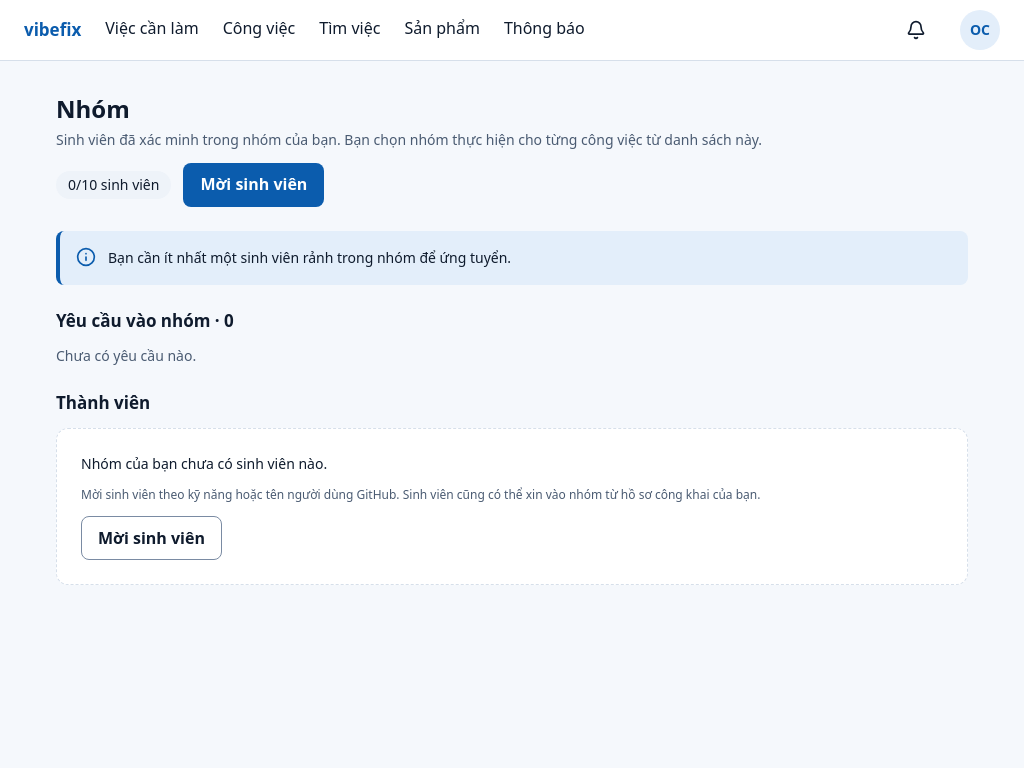
Test: MEN-6, the Mentor's Team (FR-6, AD-37) › searches Students in the invite Sheet and invites one
Click the button "Mời sinh viên" next to "0/10 sinh viên" at (254, 185), box [183,163,324,207]
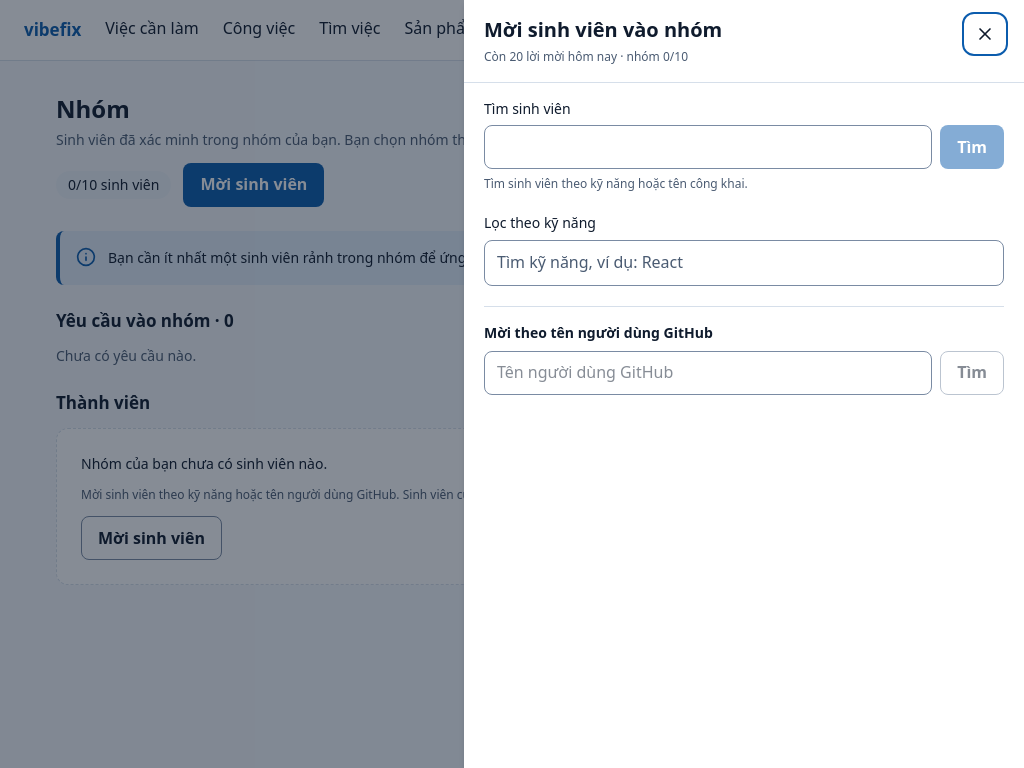
Expected: the 1st button "Tìm" is disabled, [940,125,1004,169]
Type "supabase" into the search field labelled "Tìm sinh viên" at (708, 147), box [484,125,932,169]
Then press Enter
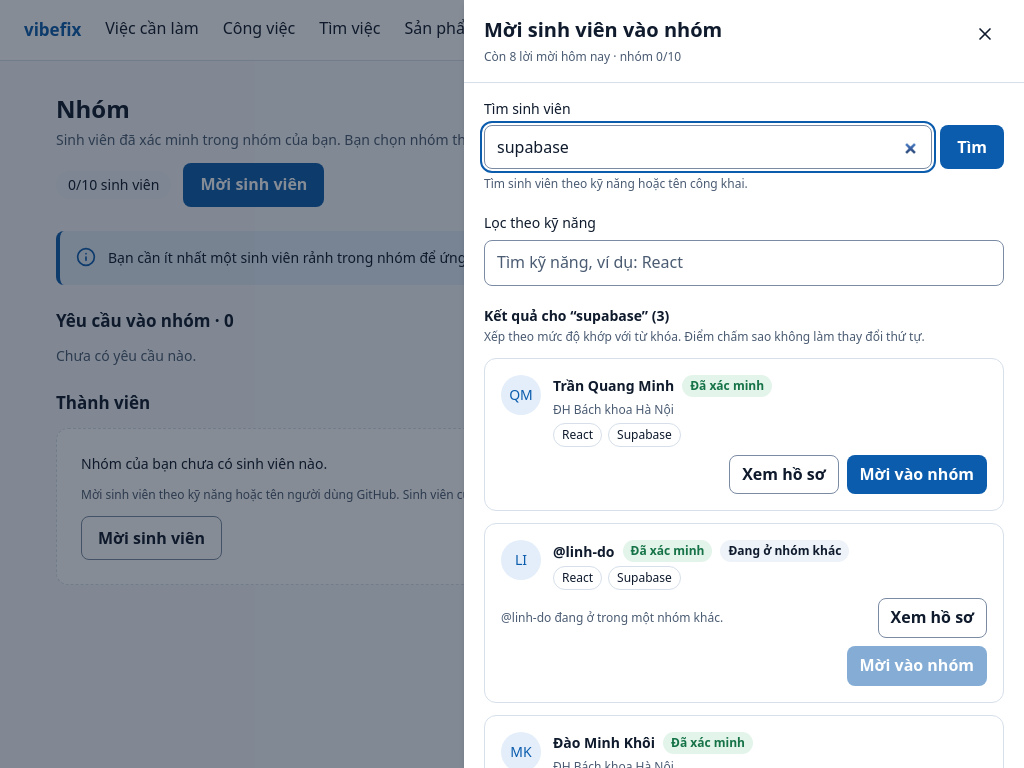
Expected: the text "Kết quả cho “supabase” (3)" is shown, [484,306,669,325]
Expected: the text "Còn 8 lời mời hôm nay · nhóm 0/10" is shown, [484,48,681,65]
Expected: the text "@linh-do đang ở trong một nhóm khác." is shown, [501,609,723,626]
Click the button with aria-label "Mời Trần Quang Minh vào nhóm" at (917, 475), box [846,455,987,494]
(page scrolled)
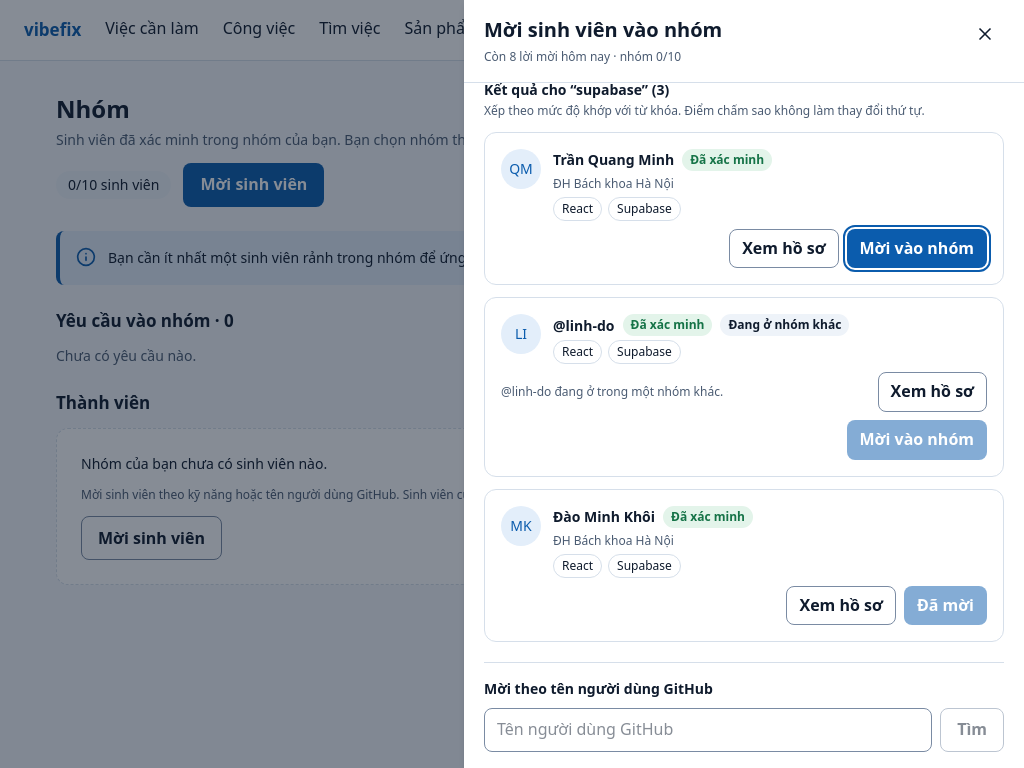
Type "khong-co" into the field labelled "Tên người dùng GitHub" at (708, 730), box [484,708,932,752]
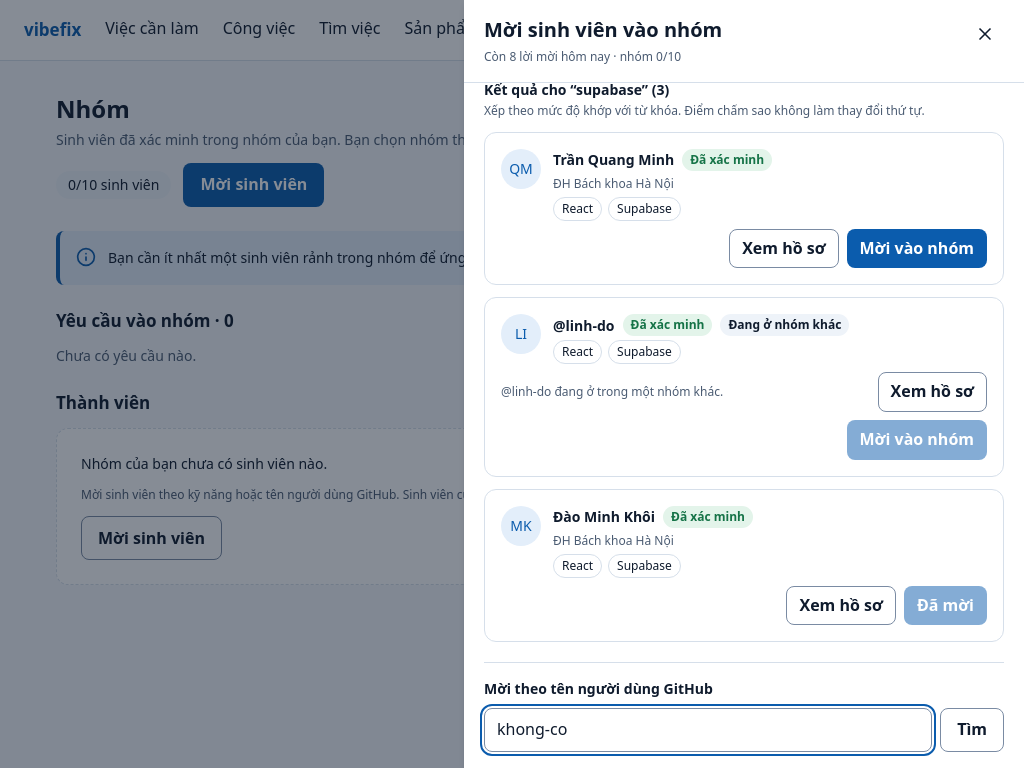
Click the button "Tìm" at (972, 730), box [940,708,1004,752]
(page scrolled)
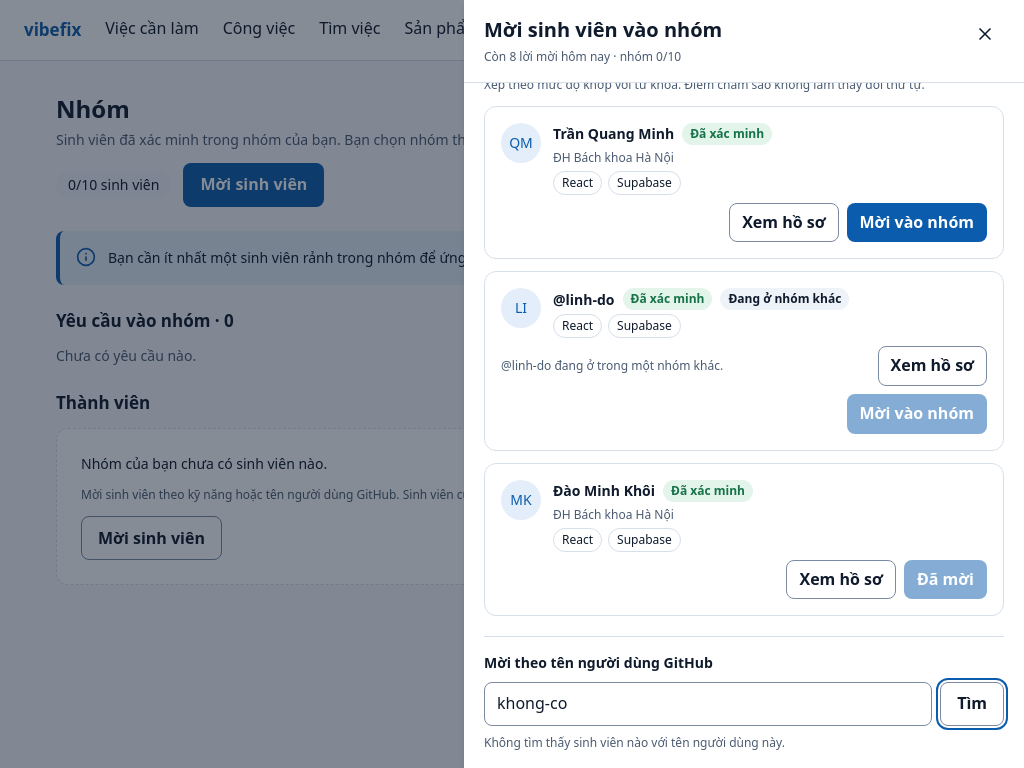
Expected: the text "Không tìm thấy sinh viên nào với tên người dùng này." is shown, [484,734,785,751]
